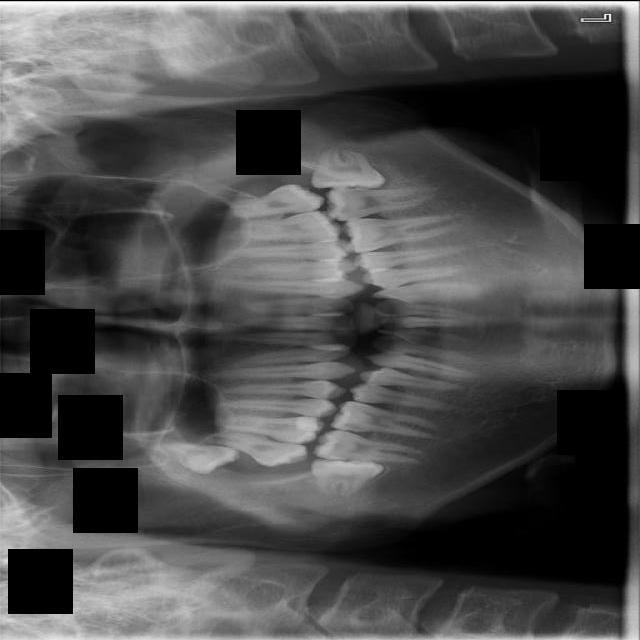3M ESPE Implant: (151, 440, 241, 476)
52: (268, 413, 325, 444)
73: (584, 48, 585, 62)
BioHorizons Implant: (212, 181, 326, 220)
Biomet 3i Implant: (310, 144, 386, 190)
Blue Sky Bio Implant: (326, 186, 432, 220)
Caries: (201, 430, 308, 471)
Implant: (311, 427, 421, 464)
Keystone Dental Implant: (310, 455, 385, 497)
